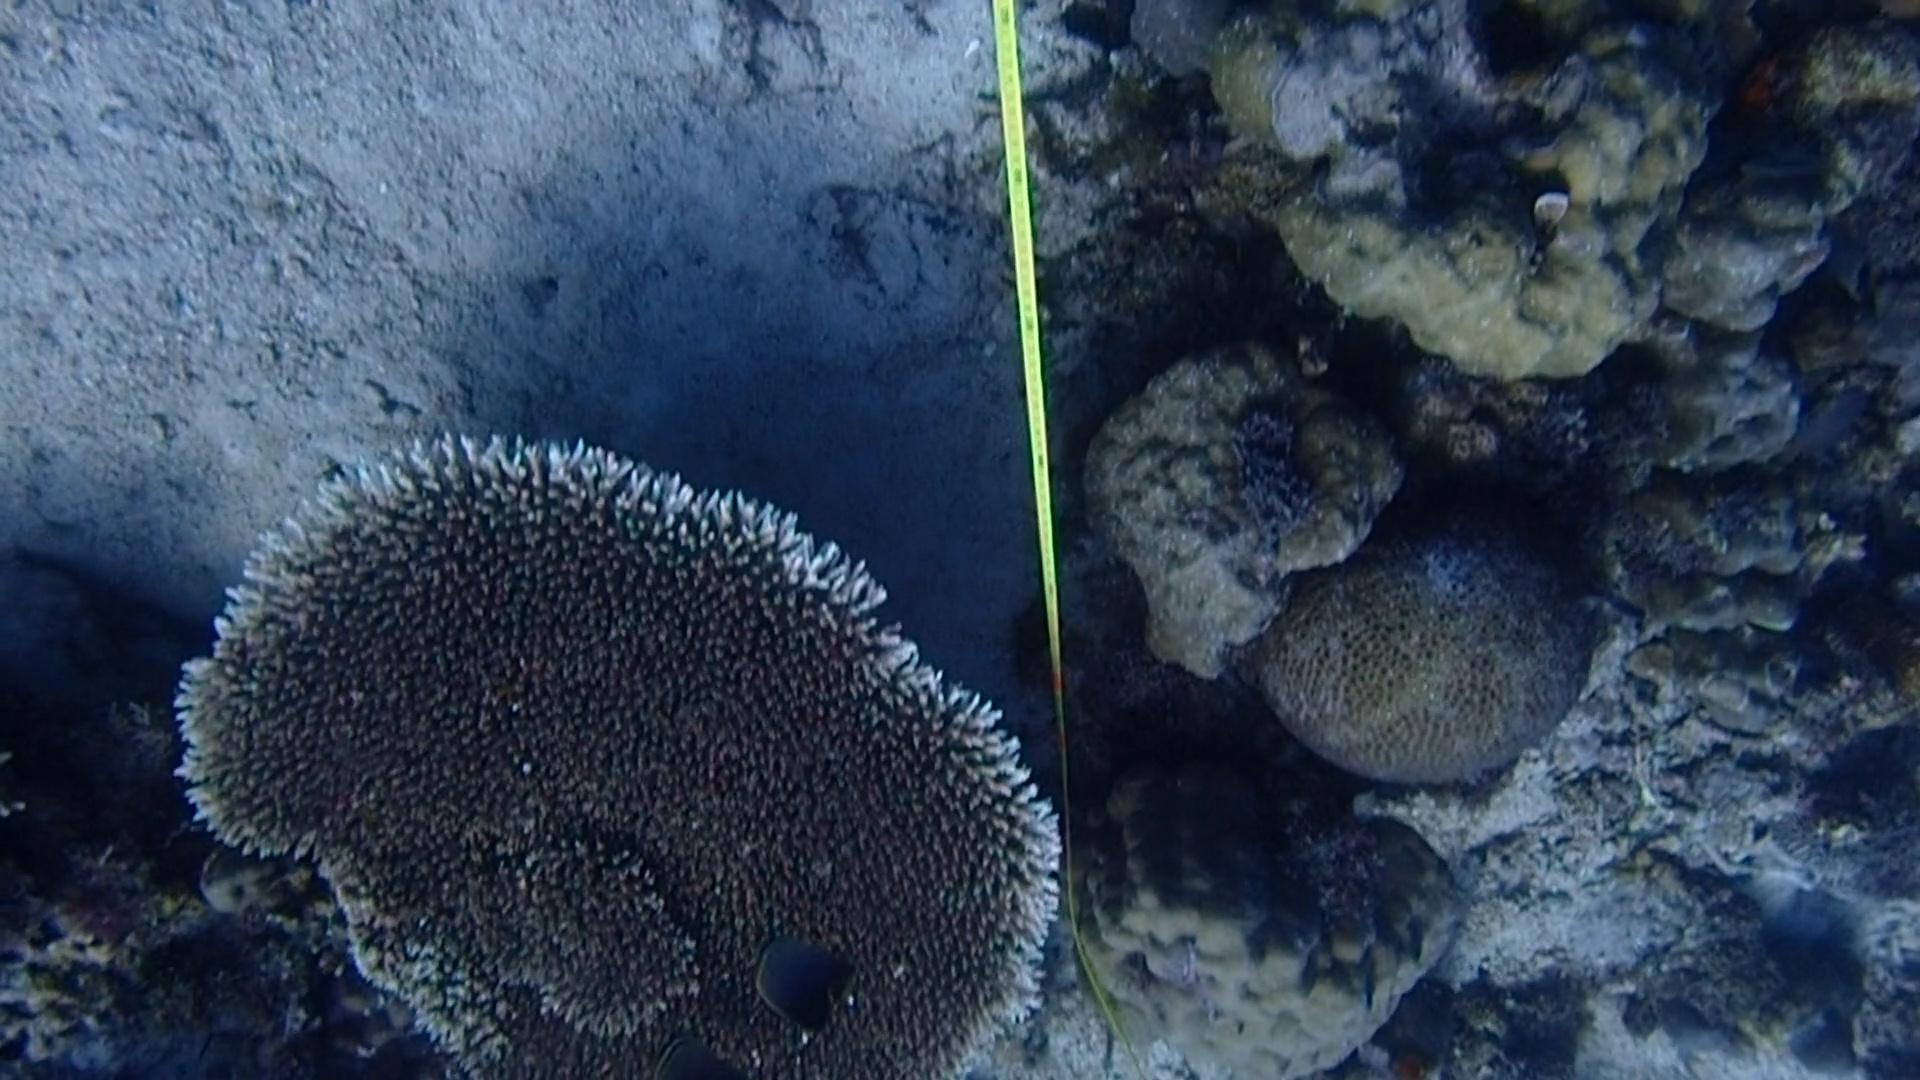Dark Blue Dory: (740, 934, 870, 1052)
Light Fish: (1563, 575, 1667, 637), (1725, 146, 1837, 202)
